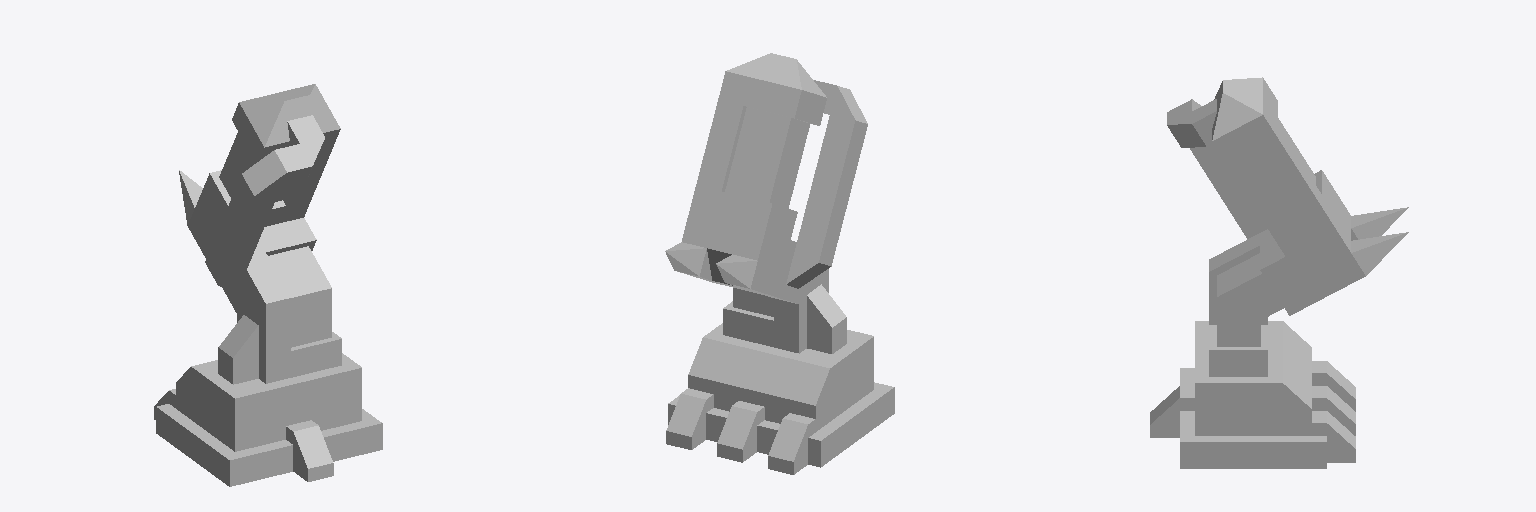
File: leg_reinforced_l.obj
3 views of the same model, side by side, from view 1: azimuth 30°, elevation 25°; view 2: azimuth 150°, elevation 25°; view 3: azimuth 270°, elevation 25° (orthographic).
Visible parts, largest first — view 1: LEG_LEFT_REINFORCED.OBVAR_Cube.317, LEG_LEFT_DECO_OBSIDIAN_Cube.376; view 2: LEG_LEFT_REINFORCED.OBVAR_Cube.317, LEG_LEFT_DECO_OBSIDIAN_Cube.376; view 3: LEG_LEFT_REINFORCED.OBVAR_Cube.317, LEG_LEFT_DECO_OBSIDIAN_Cube.376.
Part boxes in pixels (left/top/right/bottom): LEG_LEFT_REINFORCED.OBVAR_Cube.317: left=154, top=84, right=382, bottom=486; LEG_LEFT_DECO_OBSIDIAN_Cube.376: left=179, top=170, right=202, bottom=246; LEG_LEFT_REINFORCED.OBVAR_Cube.317: left=666, top=53, right=894, bottom=474; LEG_LEFT_DECO_OBSIDIAN_Cube.376: left=665, top=242, right=762, bottom=292; LEG_LEFT_REINFORCED.OBVAR_Cube.317: left=1150, top=77, right=1355, bottom=468; LEG_LEFT_DECO_OBSIDIAN_Cube.376: left=1341, top=207, right=1408, bottom=288.
Size of the model in its own units: 0.375 by 0.8246 by 0.5508.